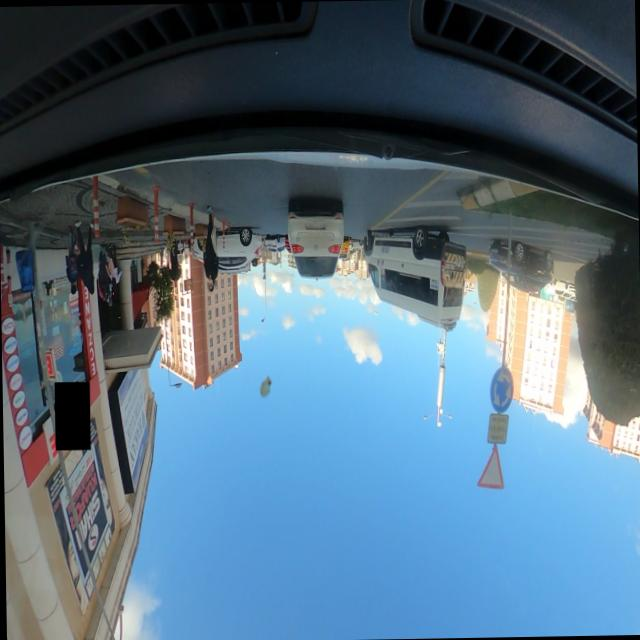SignStore: (54, 380, 89, 449)
